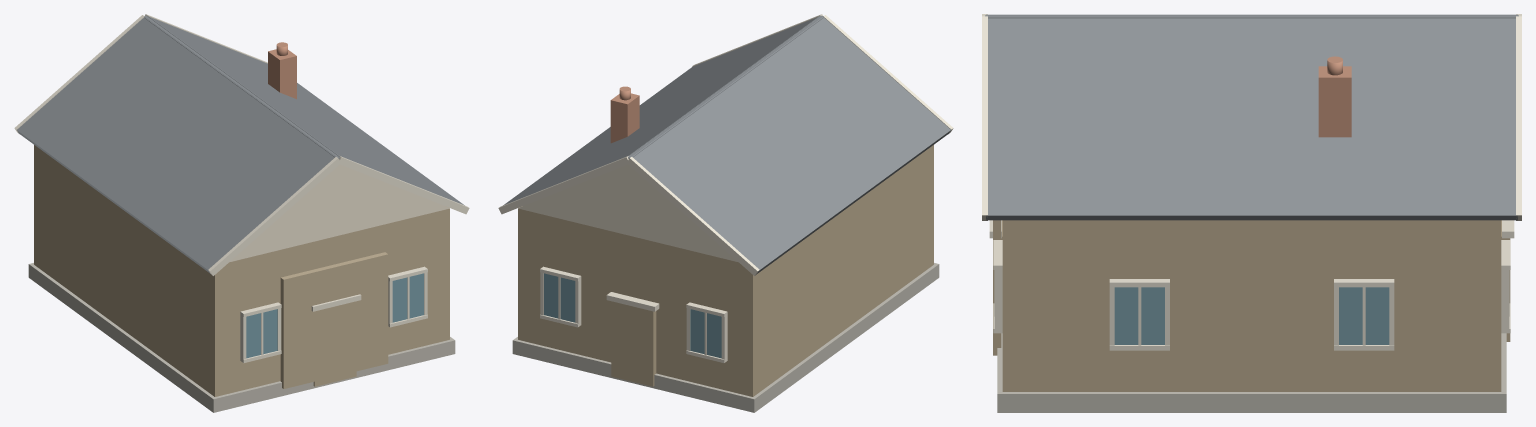
File: rhine-barn_lod0.glb
3 views of the same model, side by side, from view 1: azimuth 30°, elevation 25°; view 2: azimuth 150°, elevation 25°; view 3: azimuth 270°, elevation 25° (orthographic). The views are drawn at different scales.
Parts seen in each view (by area): view 1: RF_Roof.001, RF_Body, RF_BarnDoors, RF_Gable, RF_Roof, RF_Foundation, RF_Vergeband.001, RF_Window.002, RF_Window.001, RF_Chimney, RF_Vergeband.003, RF_Ridge (+1 smaller); view 2: RF_Body, RF_Roof.001, RF_Gable.001, RF_Roof, RF_Foundation, RF_Door, RF_Vergeband.002, RF_Window.004, RF_Window.003, RF_Chimney, RF_Vergeband, RF_Ridge (+2 smaller); view 3: RF_Roof, RF_Body, RF_Foundation, RF_Window.005, RF_Window, RF_Chimney, RF_Ridge, RF_Vergeband, RF_Vergeband.003, RF_Roof.001, RF_WindowFrame.008, RF_WindowFrame.004 (+2 smaller).
Part boxes in pixels (bbox=[...]): RF_Roof.001: bbox=[17, 17, 335, 274]; RF_Body: bbox=[34, 145, 449, 396]; RF_BarnDoors: bbox=[280, 252, 388, 388]; RF_Gable: bbox=[229, 164, 449, 262]; RF_Roof: bbox=[147, 16, 464, 205]; RF_Foundation: bbox=[28, 263, 455, 412]; RF_Vergeband.001: bbox=[208, 157, 341, 275]; RF_Window.002: bbox=[392, 273, 423, 322]; RF_Window.001: bbox=[246, 309, 277, 358]; RF_Chimney: bbox=[268, 49, 296, 99]; RF_Vergeband.003: bbox=[339, 156, 469, 214]; RF_Ridge: bbox=[144, 15, 339, 158]; RF_Body: bbox=[518, 145, 933, 396]; RF_Roof.001: bbox=[632, 17, 950, 274]; RF_Gable.001: bbox=[518, 164, 738, 262]; RF_Roof: bbox=[503, 16, 820, 205]; RF_Foundation: bbox=[512, 263, 939, 412]; RF_Door: bbox=[611, 301, 656, 386]; RF_Vergeband.002: bbox=[626, 157, 759, 275]; RF_Window.004: bbox=[544, 273, 575, 322]; RF_Window.003: bbox=[690, 309, 721, 358]; RF_Chimney: bbox=[610, 93, 639, 143]; RF_Vergeband: bbox=[498, 156, 628, 214]; RF_Ridge: bbox=[628, 15, 823, 158]; RF_Roof: bbox=[986, 16, 1517, 220]; RF_Body: bbox=[1002, 220, 1501, 391]; RF_Foundation: bbox=[997, 333, 1506, 412]; RF_Window.005: bbox=[1114, 287, 1164, 344]; RF_Window: bbox=[1339, 287, 1389, 344]; RF_Chimney: bbox=[1318, 66, 1351, 137]; RF_Ridge: bbox=[985, 15, 1518, 18]; RF_Vergeband: bbox=[1516, 16, 1521, 220]; RF_Vergeband.003: bbox=[982, 16, 987, 220]; RF_Roof.001: bbox=[986, 14, 1517, 15]; RF_WindowFrame.008: bbox=[1501, 263, 1509, 333]; RF_WindowFrame.004: bbox=[994, 263, 1002, 333].
Bounding box in the file's own units: 9.93 × 8.47 × 12.98.
